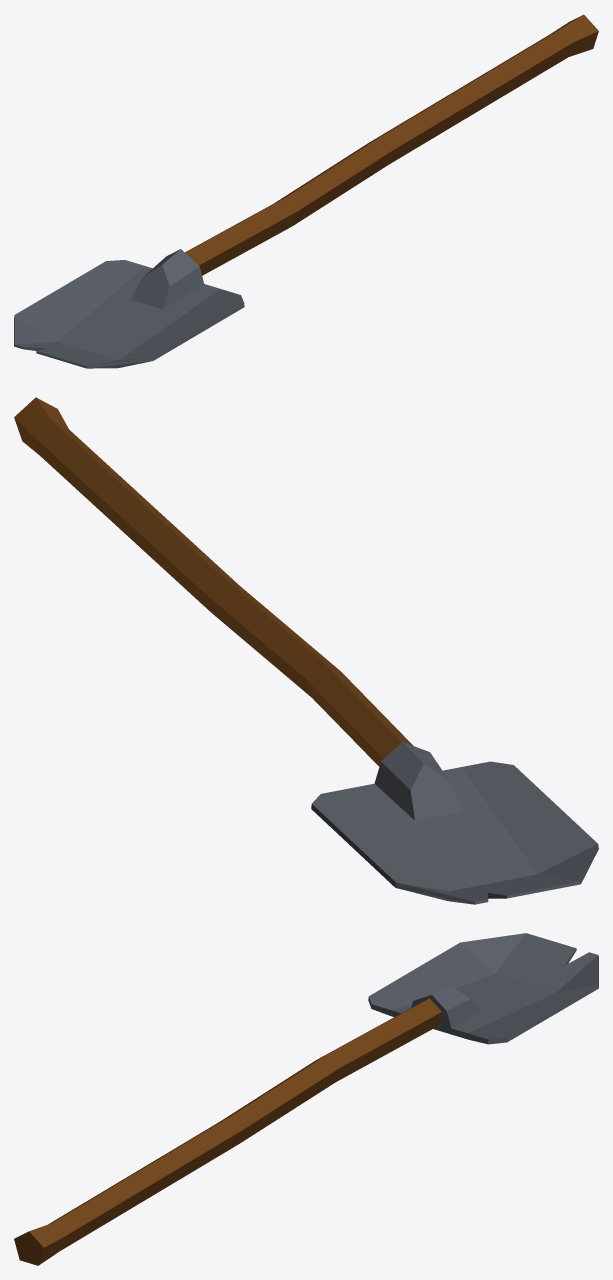
File: Shovel.fbx
The picture shows the model from 3 angles, top to bottom: view 1: azimuth 90°, elevation 25°; view 2: azimuth 150°, elevation 25°; view 3: azimuth 270°, elevation 25°; orthographic projection. The views are drawn at different scales.
Parts seen in each view (by area): view 1: Shovel; view 2: Shovel; view 3: Shovel.
Part boxes in pixels (bbox=[...]): Shovel: bbox=[14, 14, 598, 368]; Shovel: bbox=[14, 397, 598, 904]; Shovel: bbox=[14, 933, 598, 1265].
Size of the model in its own units: 1.1 by 0.8255 by 0.0823.
